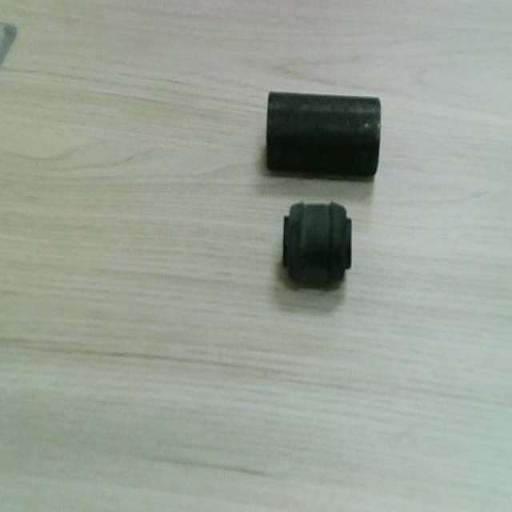peca: (266, 92, 380, 179), (282, 202, 351, 285)
